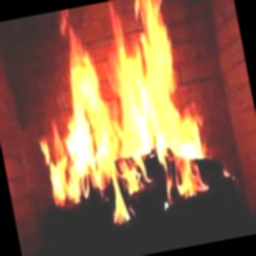fire: (12, 0, 240, 239)
